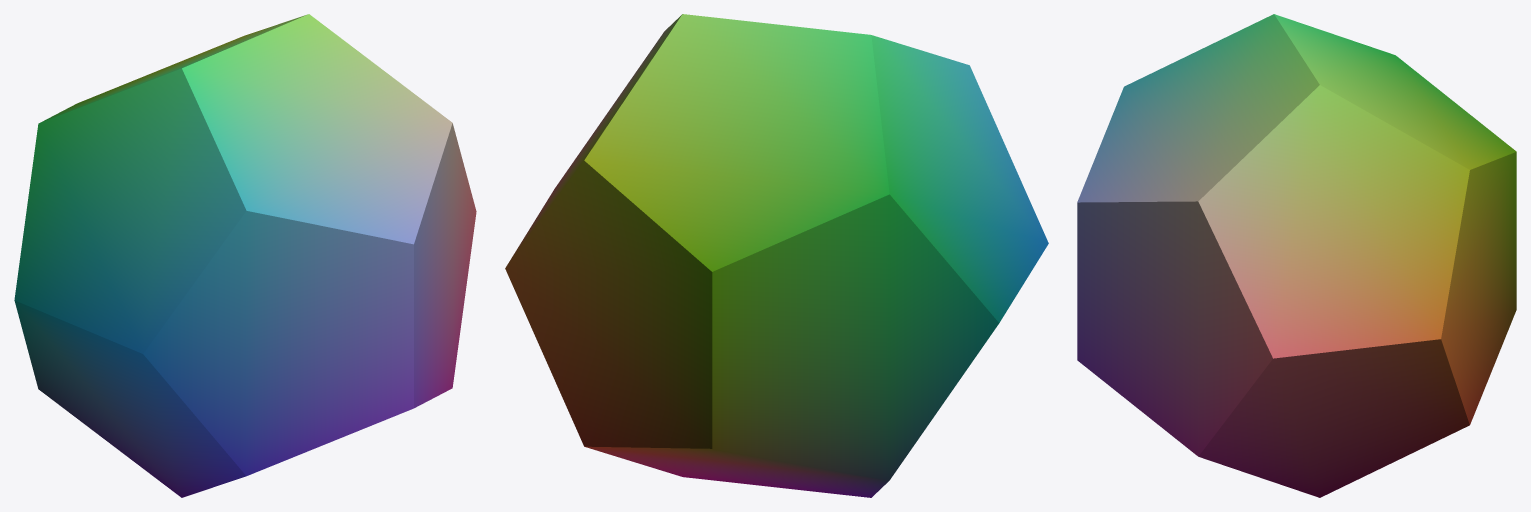
Rendered from zeometry-polyhedra-dodecahedron_v3.glb.
3 views of the same model, side by side, from view 1: azimuth 30°, elevation 25°; view 2: azimuth 150°, elevation 25°; view 3: azimuth 270°, elevation 25° (orthographic). The views are drawn at different scales.
Parts seen in each view (by area): view 1: Dodecahedron_v3; view 2: Dodecahedron_v3; view 3: Dodecahedron_v3.
Part boxes in pixels (bbox=[...]): Dodecahedron_v3: bbox=[14, 14, 476, 497]; Dodecahedron_v3: bbox=[505, 14, 1048, 497]; Dodecahedron_v3: bbox=[1077, 14, 1516, 497].
Size of the model in its own units: 0.5 by 0.4693 by 0.4527.
